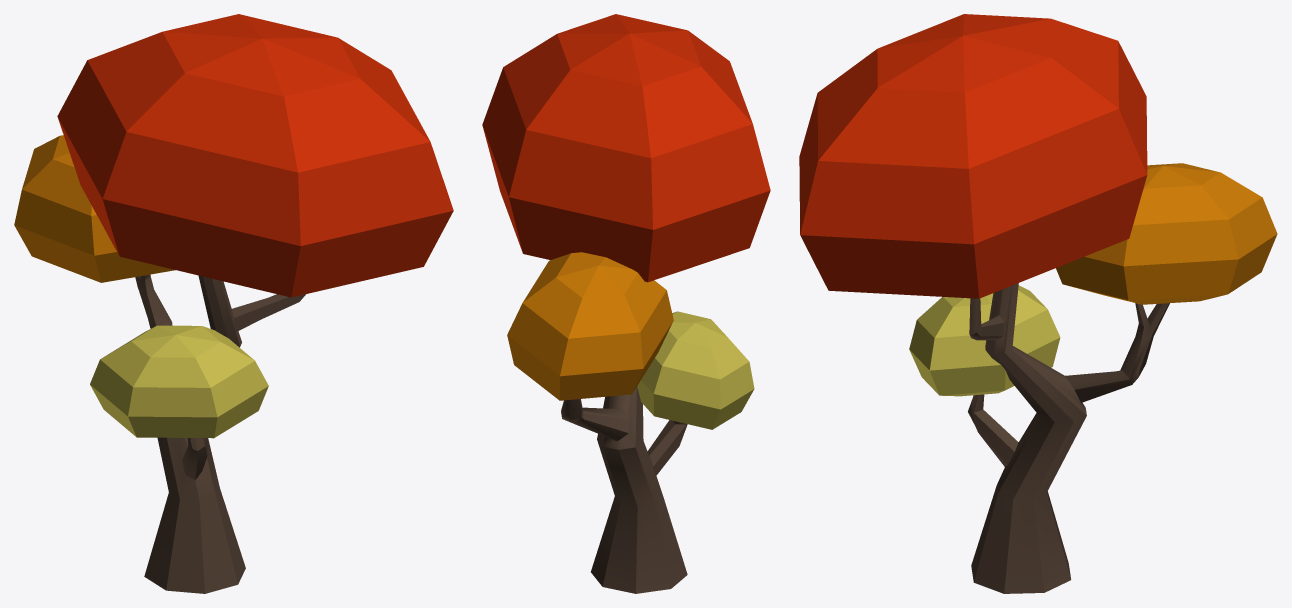
Rendered from tree8.fbx.
3 renders of one model, left to right at view 1: azimuth 30°, elevation 25°; view 2: azimuth 150°, elevation 25°; view 3: azimuth 270°, elevation 25°, orthographic. The views are drawn at different scales.
Parts seen in each view (by area): view 1: GrandFeuillage, PetitFeuillage, TroncArbre, MoyenFeuillage; view 2: GrandFeuillage, MoyenFeuillage, TroncArbre, PetitFeuillage; view 3: GrandFeuillage, TroncArbre, MoyenFeuillage, PetitFeuillage.
Part boxes in pixels (x1=…): GrandFeuillage: x1=57, y1=14, x2=453, y2=297; PetitFeuillage: x1=90, y1=325, x2=268, y2=438; TroncArbre: x1=135, y1=274, x2=305, y2=593; MoyenFeuillage: x1=14, y1=135, x2=175, y2=282; GrandFeuillage: x1=482, y1=14, x2=770, y2=282; MoyenFeuillage: x1=507, y1=252, x2=673, y2=400; TroncArbre: x1=561, y1=387, x2=687, y2=593; PetitFeuillage: x1=637, y1=311, x2=754, y2=429; GrandFeuillage: x1=799, y1=14, x2=1147, y2=298; TroncArbre: x1=968, y1=283, x2=1169, y2=593; MoyenFeuillage: x1=1056, y1=163, x2=1277, y2=304; PetitFeuillage: x1=909, y1=285, x2=1060, y2=396.
Size of the model in its own units: 25.91 by 44.01 by 34.29.
